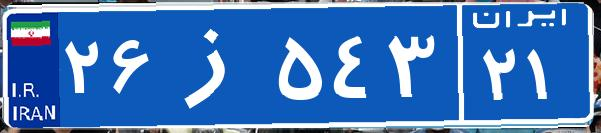1: (525, 38, 570, 115)
2: (57, 26, 110, 107), (475, 38, 525, 113)
3: (385, 28, 445, 110)
4: (330, 28, 385, 110)
5: (273, 28, 330, 110)
6: (110, 28, 158, 105)
ز: (158, 15, 273, 115)
